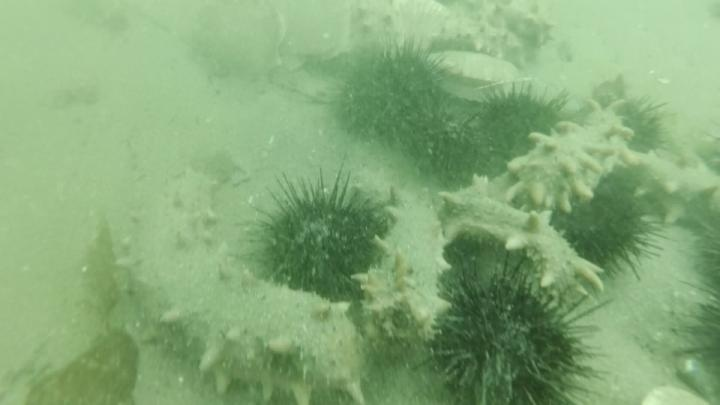echinus: (424, 252, 609, 405), (243, 168, 393, 303), (263, 174, 391, 315), (324, 38, 452, 151), (552, 182, 663, 277), (467, 81, 572, 170), (394, 94, 488, 188), (668, 289, 720, 403), (600, 90, 673, 157), (684, 204, 720, 295)
holothurian: (123, 164, 361, 405), (437, 176, 607, 313), (353, 181, 454, 346), (503, 104, 633, 218), (595, 146, 720, 249), (423, 20, 536, 68), (479, 1, 557, 50)
scallop: (190, 1, 291, 79), (263, 1, 356, 73), (424, 48, 528, 108), (384, 1, 454, 52), (638, 379, 708, 405)
